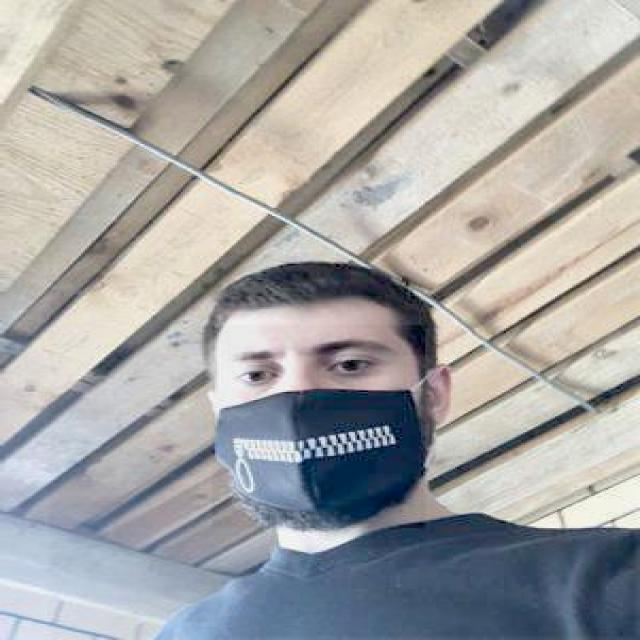face_mask: (213, 325, 425, 528)
head_nohelmet: (192, 253, 444, 355)
person: (47, 221, 636, 638)
